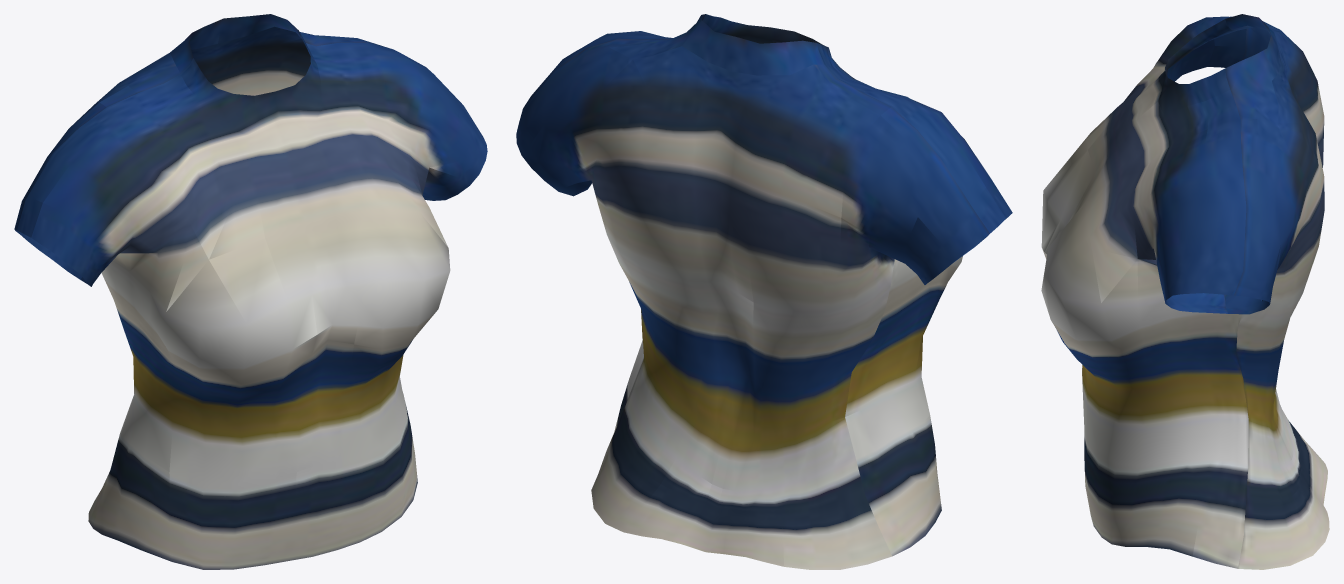
The model's file is TS_SMF.dae.
The picture shows the model from 3 angles, left to right: view 1: azimuth 30°, elevation 25°; view 2: azimuth 150°, elevation 25°; view 3: azimuth 270°, elevation 25°; orthographic projection. The views are drawn at different scales.
Parts seen in each view (by area): view 1: TM; view 2: TM; view 3: TM.
Part boxes in pixels (bbox=[...]): TM: bbox=[14, 14, 487, 569]; TM: bbox=[516, 14, 1012, 569]; TM: bbox=[1041, 14, 1329, 569].
Size of the model in its own units: 4.98 by 4.98 by 2.77.
